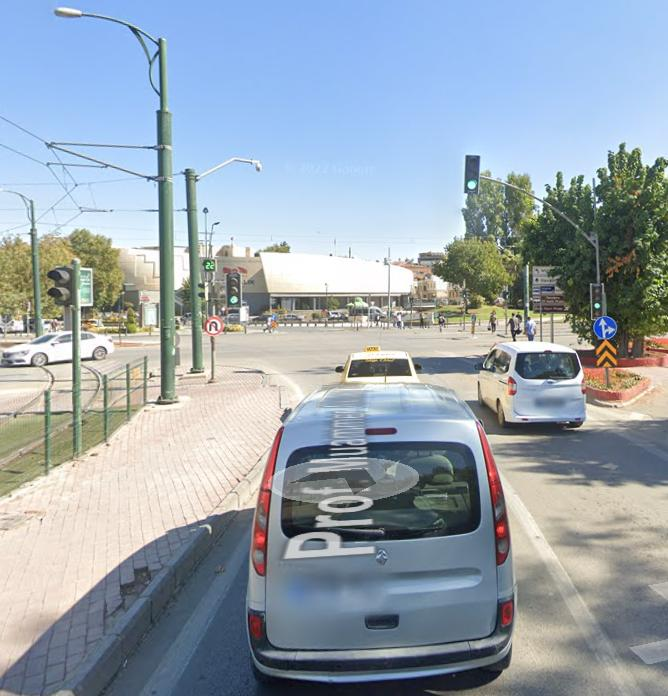greenlight: (463, 154, 479, 195), (227, 272, 242, 305), (591, 282, 605, 317)
